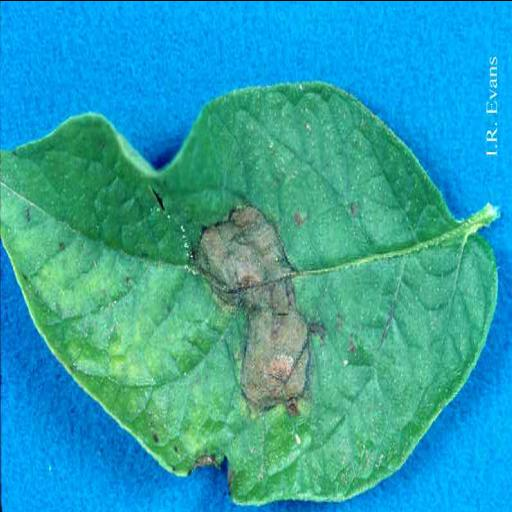disease_tomato: (1, 76, 499, 508)
